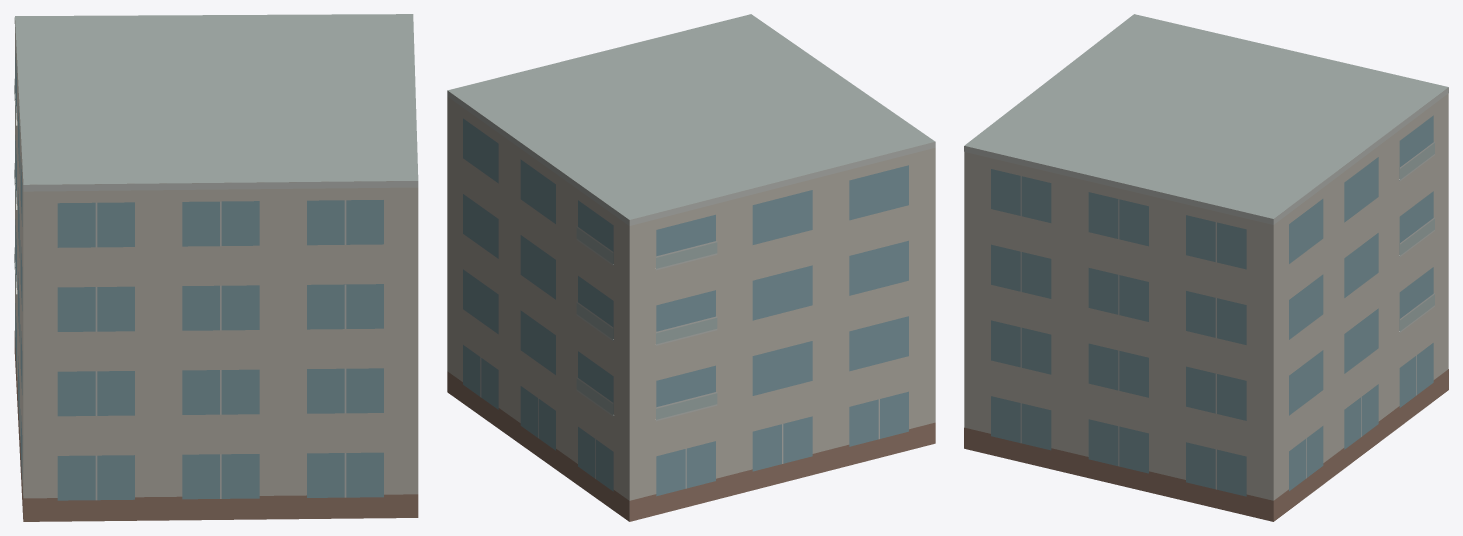
File: survey-upis-32945492.glb
3 renders of one model, left to right at view 1: azimuth 30°, elevation 25°; view 2: azimuth 150°, elevation 25°; view 3: azimuth 270°, elevation 25°, orthographic. The views are drawn at different scales.
Visible parts, largest first — view 1: survey-upis-32945492.tmp; view 2: survey-upis-32945492.tmp; view 3: survey-upis-32945492.tmp.
Boxes of the visible parts, x1=… form: survey-upis-32945492.tmp: x1=14, y1=14, x2=418, y2=521; survey-upis-32945492.tmp: x1=447, y1=14, x2=935, y2=521; survey-upis-32945492.tmp: x1=964, y1=14, x2=1448, y2=521.
Bounding box in the file's own units: 17.72 × 12.2 × 17.7.
